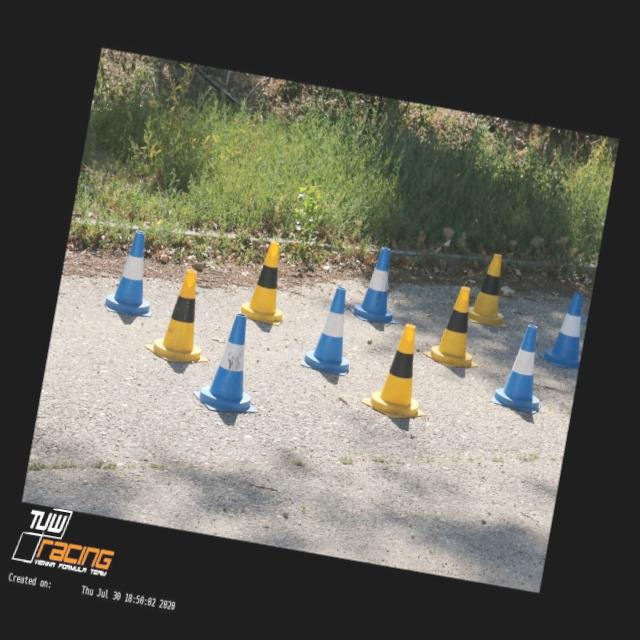blue_cone: (190, 307, 272, 417), (489, 320, 554, 414), (300, 282, 364, 376), (100, 226, 164, 317), (346, 243, 408, 326), (536, 286, 590, 371)
yellow_cone: (360, 318, 439, 423), (143, 264, 222, 368), (422, 282, 491, 372), (236, 237, 296, 326), (461, 250, 518, 328)
